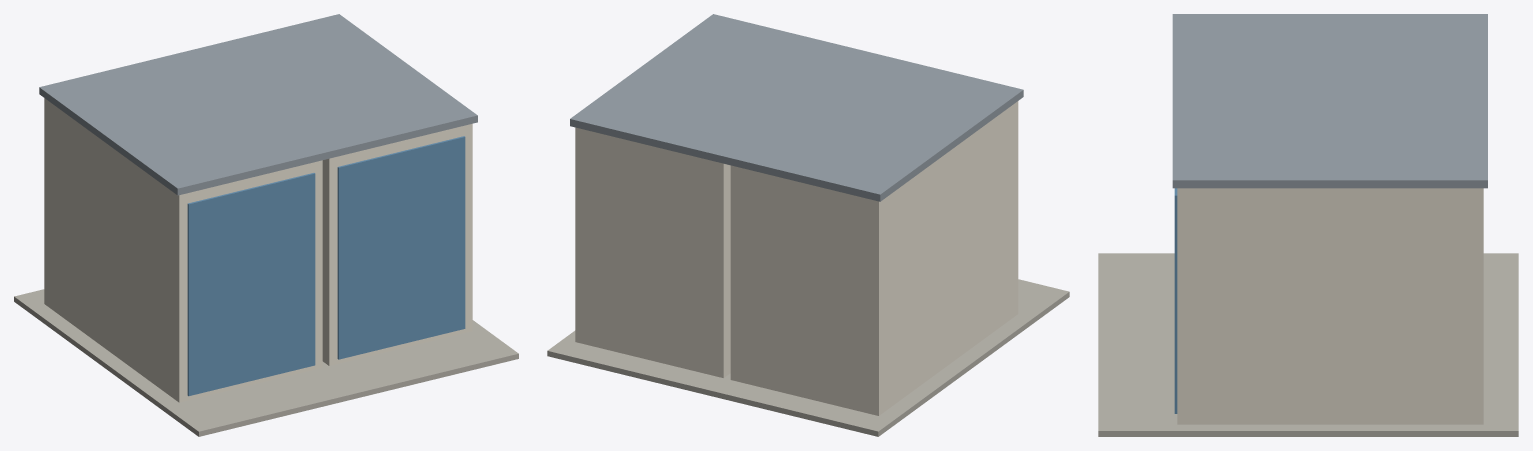
The model's file is zone_C_d2_e4.glb.
3 views of the same model, side by side, from view 1: azimuth 30°, elevation 25°; view 2: azimuth 150°, elevation 25°; view 3: azimuth 270°, elevation 25° (orthographic). The views are drawn at different scales.
Visible parts, largest first — view 1: zone_C_d2_e4; view 2: zone_C_d2_e4; view 3: zone_C_d2_e4.
Boxes of the visible parts, box(x1,y1,x2,y2) form: zone_C_d2_e4: box(14, 14, 518, 436); zone_C_d2_e4: box(547, 14, 1069, 436); zone_C_d2_e4: box(1098, 14, 1518, 436).
Bounding box in the file's own units: 0.96 × 0.635 × 0.96.
